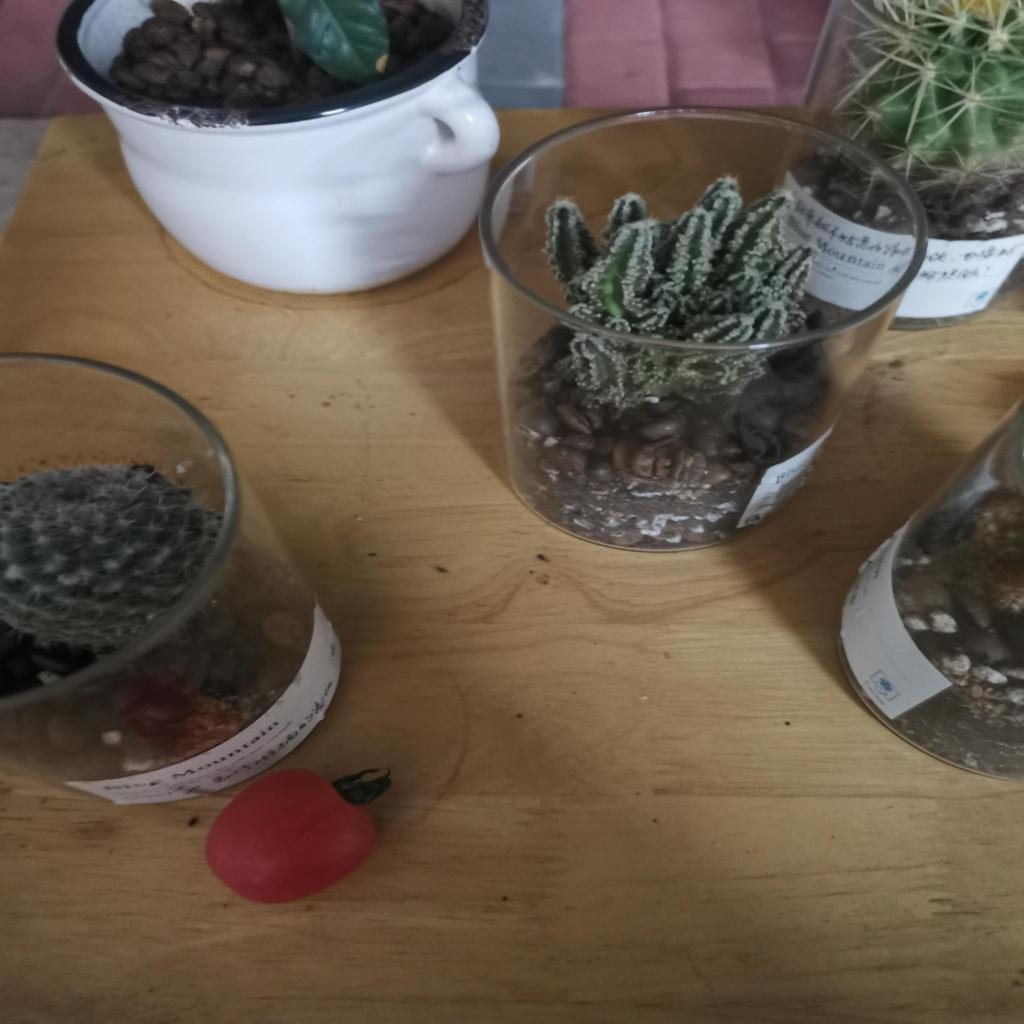tomato: (200, 765, 389, 903)
